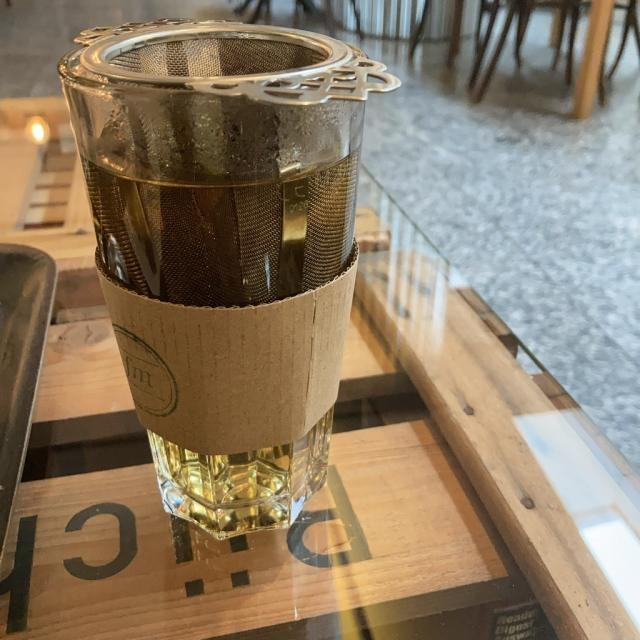tea: (88, 118, 358, 496)
